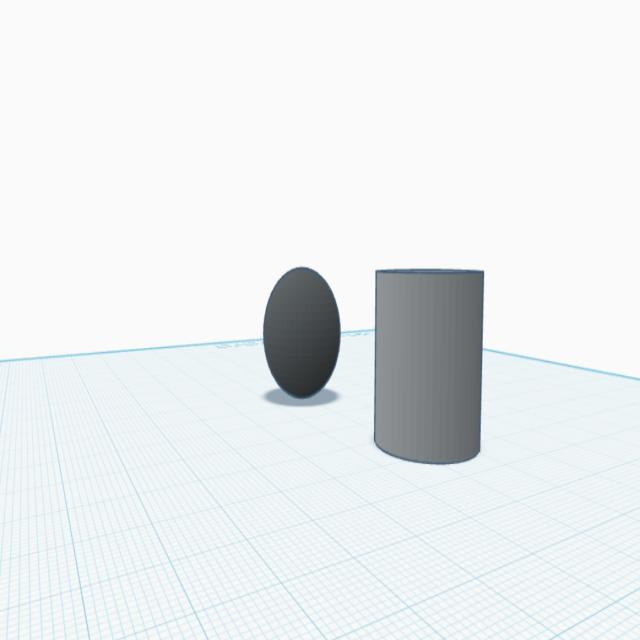sphere: (260, 262, 344, 404)
